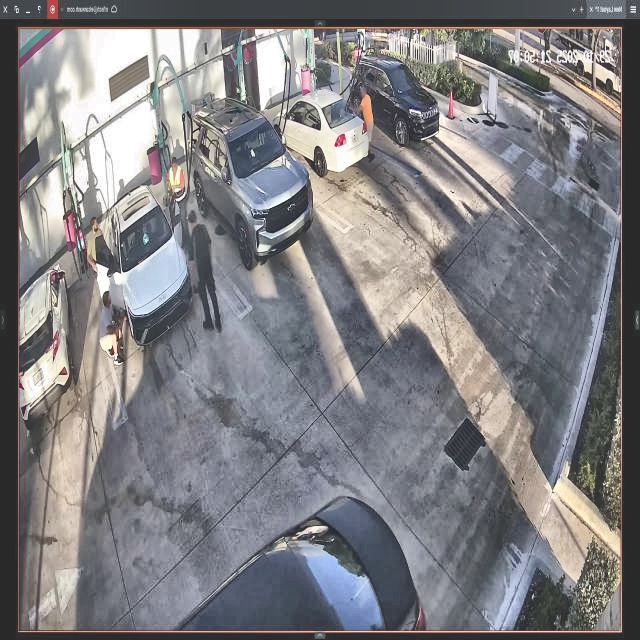Car: (188, 100, 312, 263), (108, 185, 192, 347), (276, 86, 366, 171)
